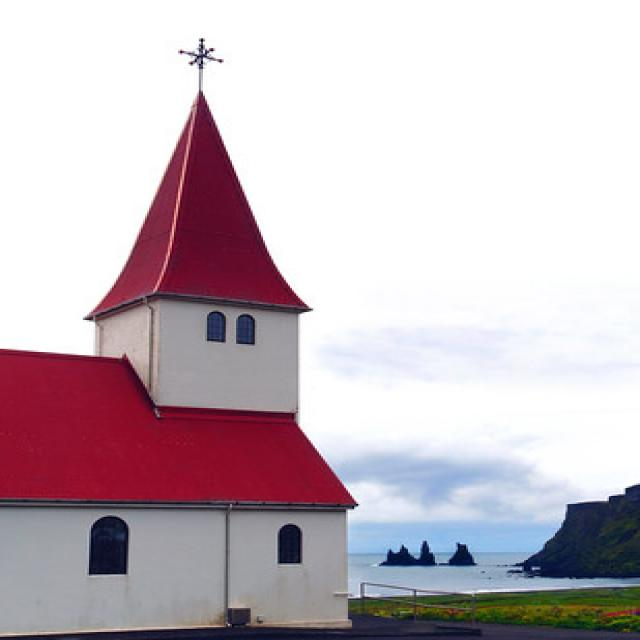Normal_building: (9, 94, 358, 640)
